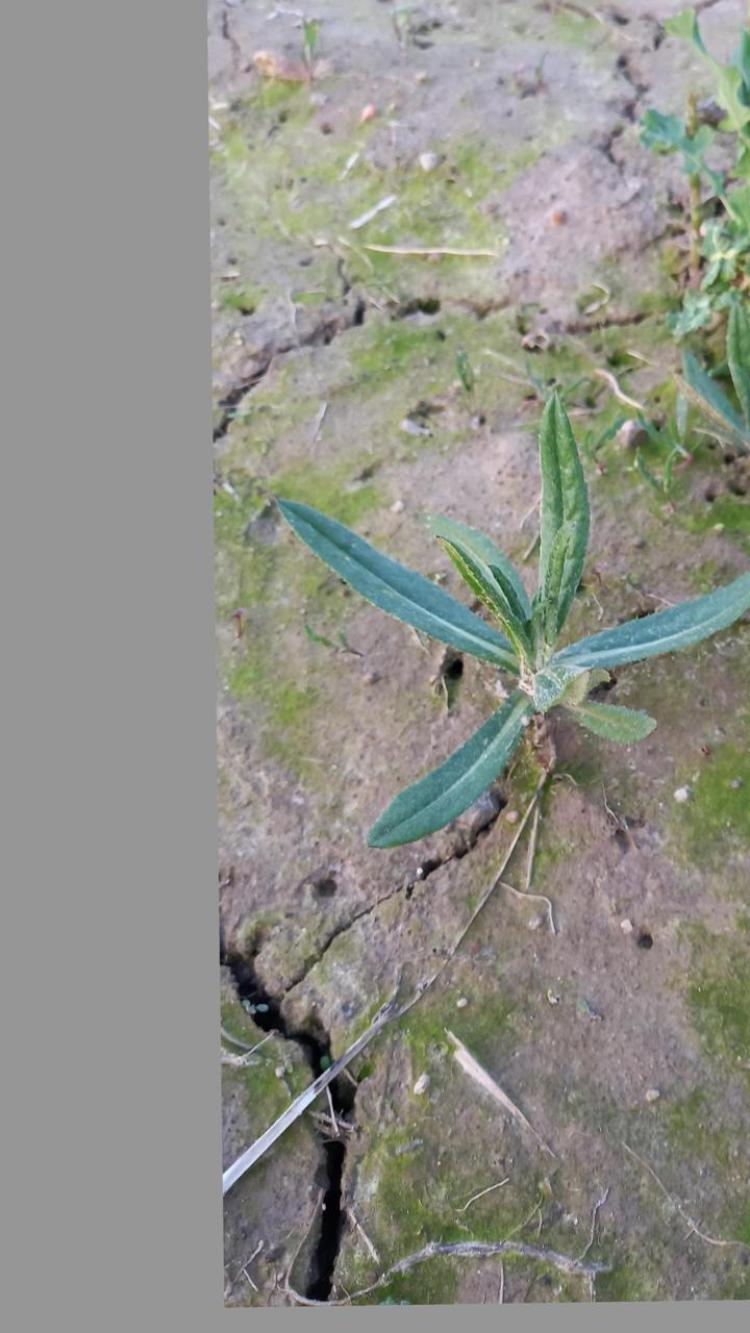osot: (283, 379, 750, 852)
